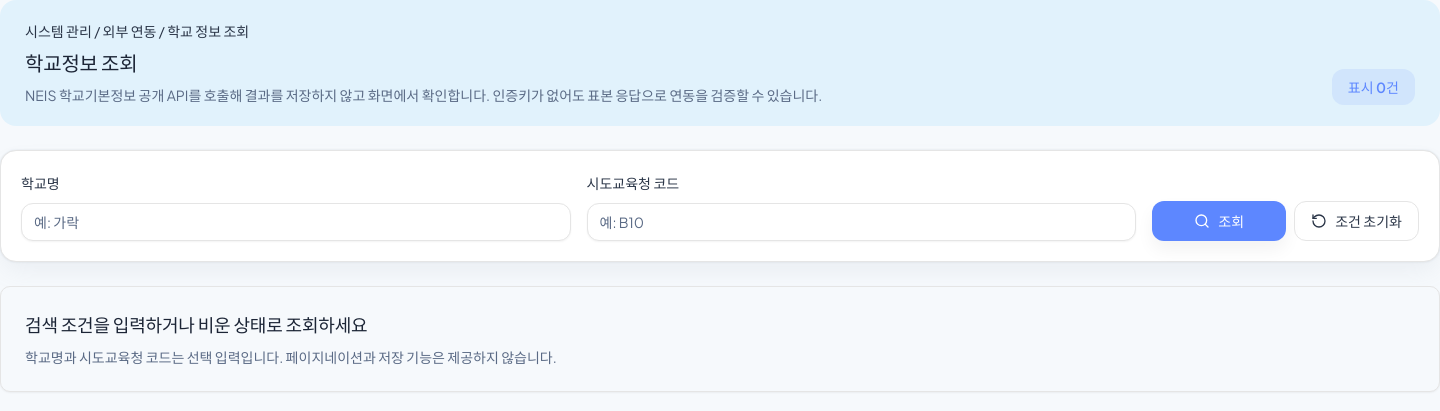
Test: SCR-SCHOOL-INFO-LOOKUP › shows external API error reason without crashing the page
This screenshot has width=1440, height=411.
Click the button with test id "school-info-search-button" at (1219, 221), box [1152,201,1286,241]
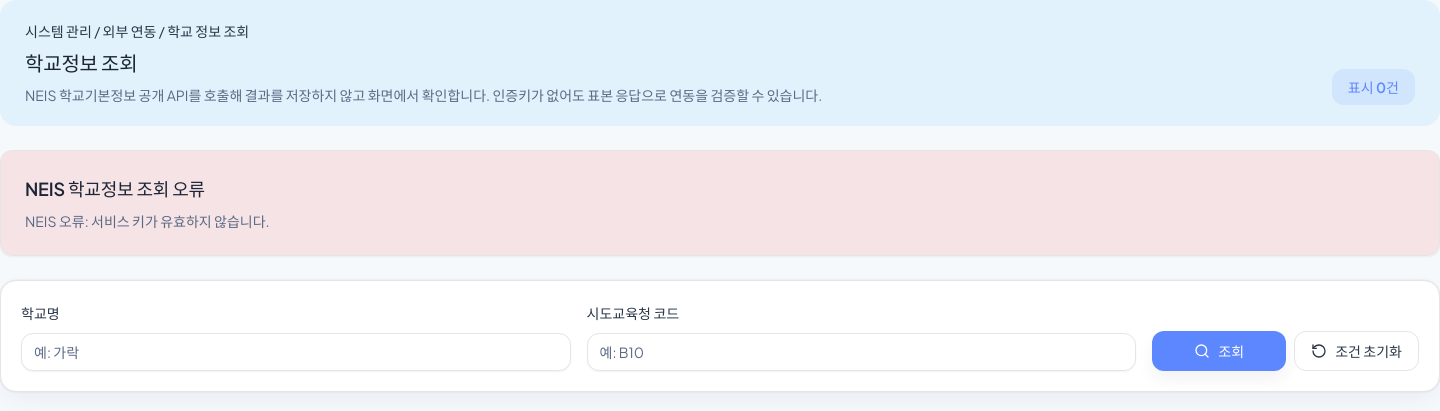
Expected: the button with test id "school-info-search-button" is enabled, [1152,331,1286,371]
Now the message shows "NEIS 오류: 서비스 키가 유효하지 않습니다.", box [25,212,270,230]
